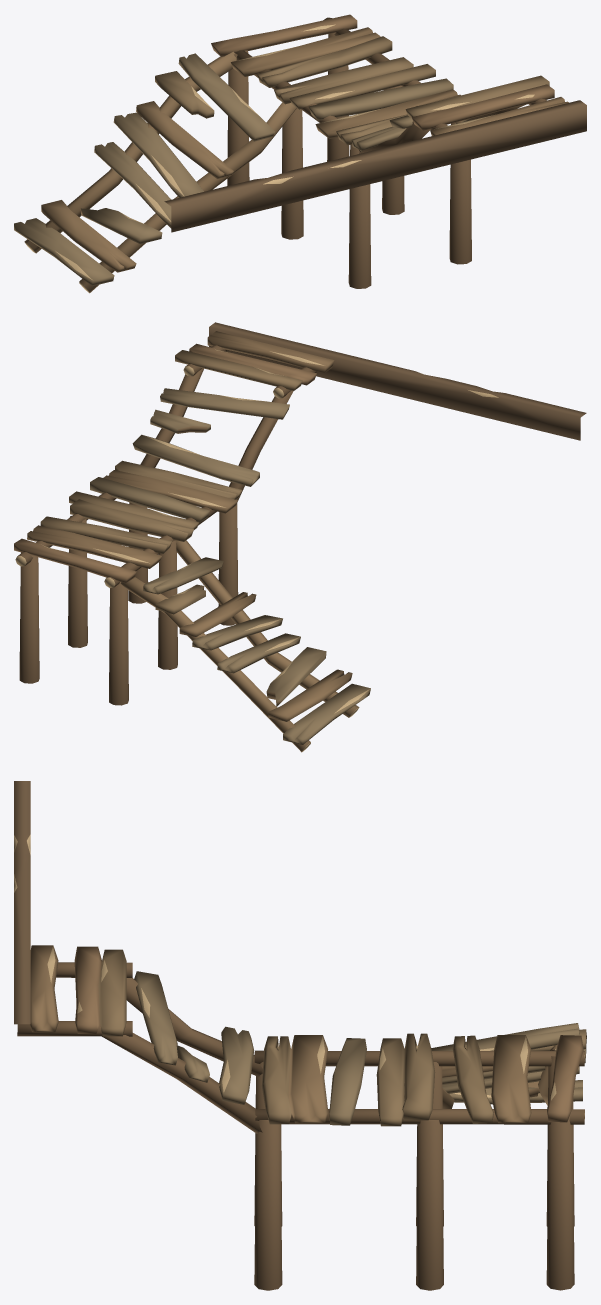
File: rpgpp_av_stairs_interior_01b_3m.gltf
3 renders of one model, top to bottom at view 1: azimuth 30°, elevation 25°; view 2: azimuth 150°, elevation 25°; view 3: azimuth 270°, elevation 25°, orthographic. The views are drawn at different scales.
Parts seen in each view (by area): view 1: rpgpp_av_stairs_interior_01b_3m; view 2: rpgpp_av_stairs_interior_01b_3m; view 3: rpgpp_av_stairs_interior_01b_3m.
Part boxes in pixels (x1,y1,x2,y2): rpgpp_av_stairs_interior_01b_3m: [14, 14, 586, 293]; rpgpp_av_stairs_interior_01b_3m: [14, 322, 586, 752]; rpgpp_av_stairs_interior_01b_3m: [14, 781, 586, 1290].
Bounding box in the file's own units: 0.0592 × 0.0318 × 0.0587.
1 material, 1 textured.
